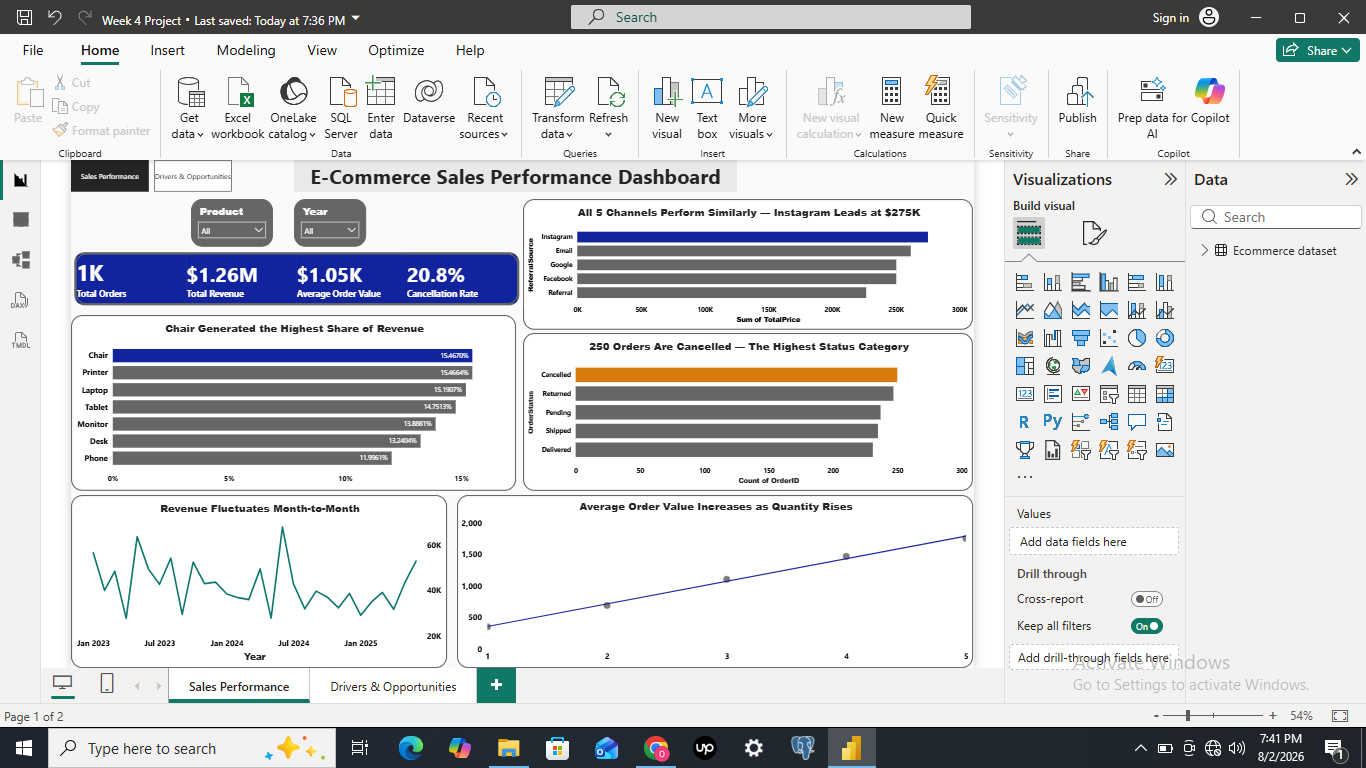

This screenshot's page, from the dashboard's own definition file:
{"tool":"powerbi","page":{"name":"Sales Performance","canvas":[1664,936],"ordinal":0},"visuals":[{"type":"clusteredBarChart","title":"Chair Generated the Highest Share of Revenue","fields":{"Category":["Ecommerce dataset.Product"],"Y":["Ecommerce dataset.% of Total Revenue"]},"box":[0,285.6,819.9,324.3],"z":0},{"type":"lineChart","title":"Revenue Fluctuates Month-to-Month","fields":{"Category":["Ecommerce dataset.Date.Variation.Date Hierarchy.Year","Ecommerce dataset.Date.Variation.Date Hierarchy.Month"],"Y2":["Sum(Ecommerce dataset.TotalPrice)"]},"box":[0,617.2,692.8,318.8],"z":1000},{"type":"scatterChart","title":"Average Order Value Increases as Quantity Rises","fields":{"X":["Ecommerce dataset.Quantity"],"Y":["Ecommerce dataset.TotalPrice"]},"box":[711.2,617.2,950.7,318.8],"z":2000},{"type":"slicer","fields":{"Values":["Ecommerce dataset.Date.Variation.Date Hierarchy.Year"]},"box":[410.9,71.9,132.7,88.4],"z":3000},{"type":"slicer","fields":{"Values":["Ecommerce dataset.Product"]},"box":[221.1,71.9,151.1,88.4],"z":4000},{"type":"barChart","title":"250 Orders Are Cancelled — The Highest Status Category","fields":{"Category":["Ecommerce dataset.OrderStatus"],"Y":["CountNonNull(Ecommerce dataset.OrderID)"]},"box":[832.8,318.8,829.1,291.1],"z":5000},{"type":"barChart","title":"All 5 Channels Perform Similarly — Instagram Leads at $275K","fields":{"Category":["Ecommerce dataset.ReferralSource"],"Y":["Sum(Ecommerce dataset.TotalPrice)"]},"box":[832.8,71.9,829.1,241.4],"z":6000},{"type":"cardVisual","fields":{"Data":["Ecommerce dataset.Total Orders","Ecommerce dataset.Total Revenue","Ecommerce dataset.Average Order Value","Ecommerce dataset.Cancellation Rate"]},"box":[0,165.8,832.8,106.9],"z":7000},{"type":"textbox","box":[410.9,0,816.2,59],"z":8000},{"type":"pageNavigator","box":[0,0,296.6,59],"z":9000}]}

Visuals, with their boxes on the page's 1664x936 design canvas (x1, y1, x2, y2). These are canvas units, not pixel positions in the 1366x768 screenshot, which may show the page scaled, cropped or inside an application window:
"Chair Generated the Highest Share of Revenue" clusteredBarChart: 0, 286, 820, 610
"Revenue Fluctuates Month-to-Month" lineChart: 0, 617, 693, 936
"Average Order Value Increases as Quantity Rises" scatterChart: 711, 617, 1662, 936
slicer - Ecommerce dataset.Date.Variation.Date Hierarchy.Year: 411, 72, 544, 160
slicer - Ecommerce dataset.Product: 221, 72, 372, 160
"250 Orders Are Cancelled — The Highest Status Category" barChart: 833, 319, 1662, 610
"All 5 Channels Perform Similarly — Instagram Leads at $275K" barChart: 833, 72, 1662, 313
cardVisual - Ecommerce dataset.Total Orders x Ecommerce dataset.Total Revenue: 0, 166, 833, 273
textbox: 411, 0, 1227, 59
pageNavigator: 0, 0, 297, 59
